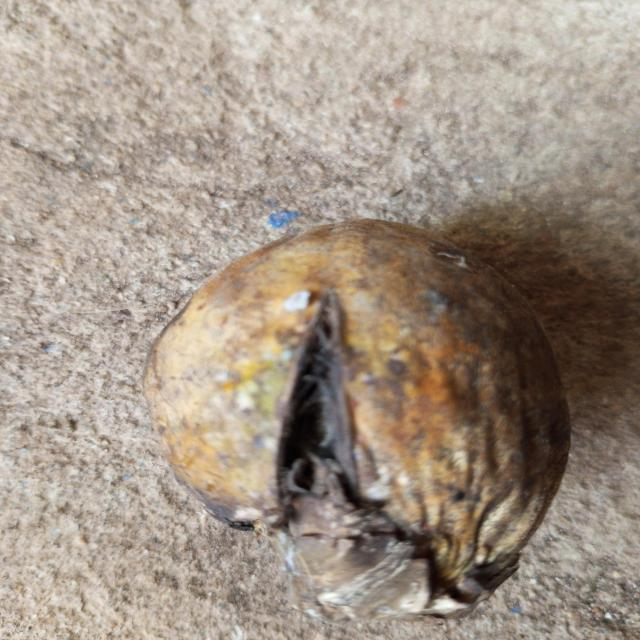damaged: (144, 220, 570, 621)
